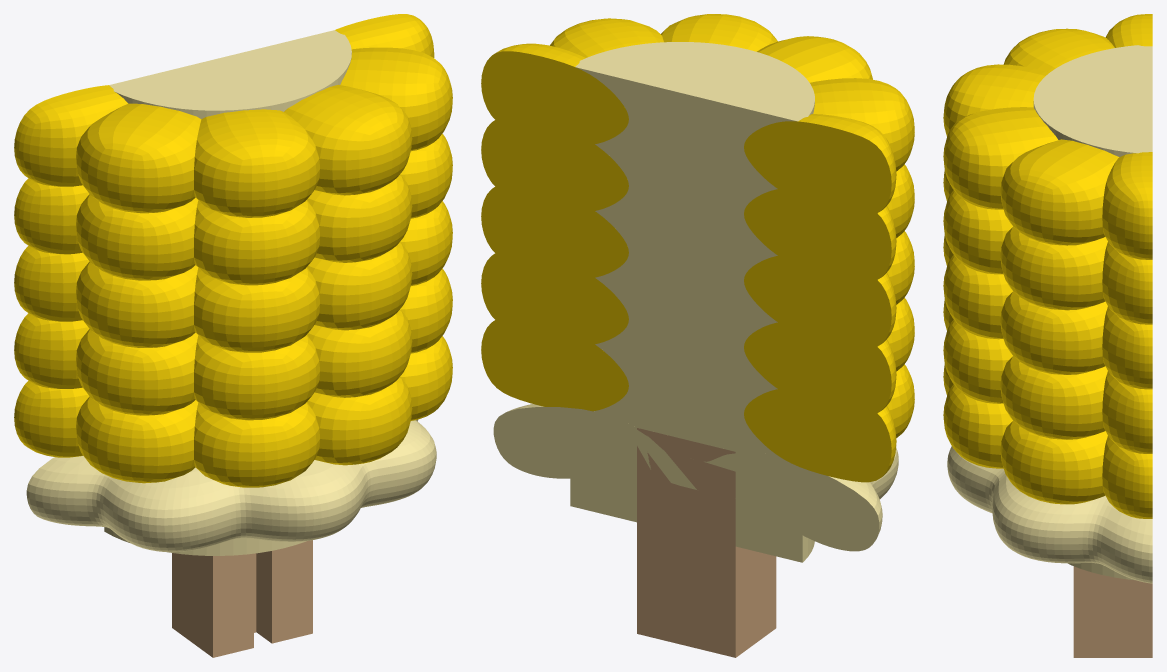
File: corn.glb
3 views of the same model, side by side, from view 1: azimuth 30°, elevation 25°; view 2: azimuth 150°, elevation 25°; view 3: azimuth 270°, elevation 25° (orthographic). The views are drawn at different scales.
Parts seen in each view (by area): view 1: Plane.158, Cube.667; view 2: Plane.158, Cube.667; view 3: Plane.158, Cube.667.
Boxes of the visible parts, x1,y1,x2,y2 form: Plane.158: (14, 14, 452, 487); Cube.667: (26, 30, 436, 657); Plane.158: (481, 14, 914, 482); Cube.667: (493, 42, 898, 657); Plane.158: (943, 14, 1152, 518); Cube.667: (947, 45, 1152, 657).
Size of the model in its own units: 11.65 by 15.02 by 5.3.
